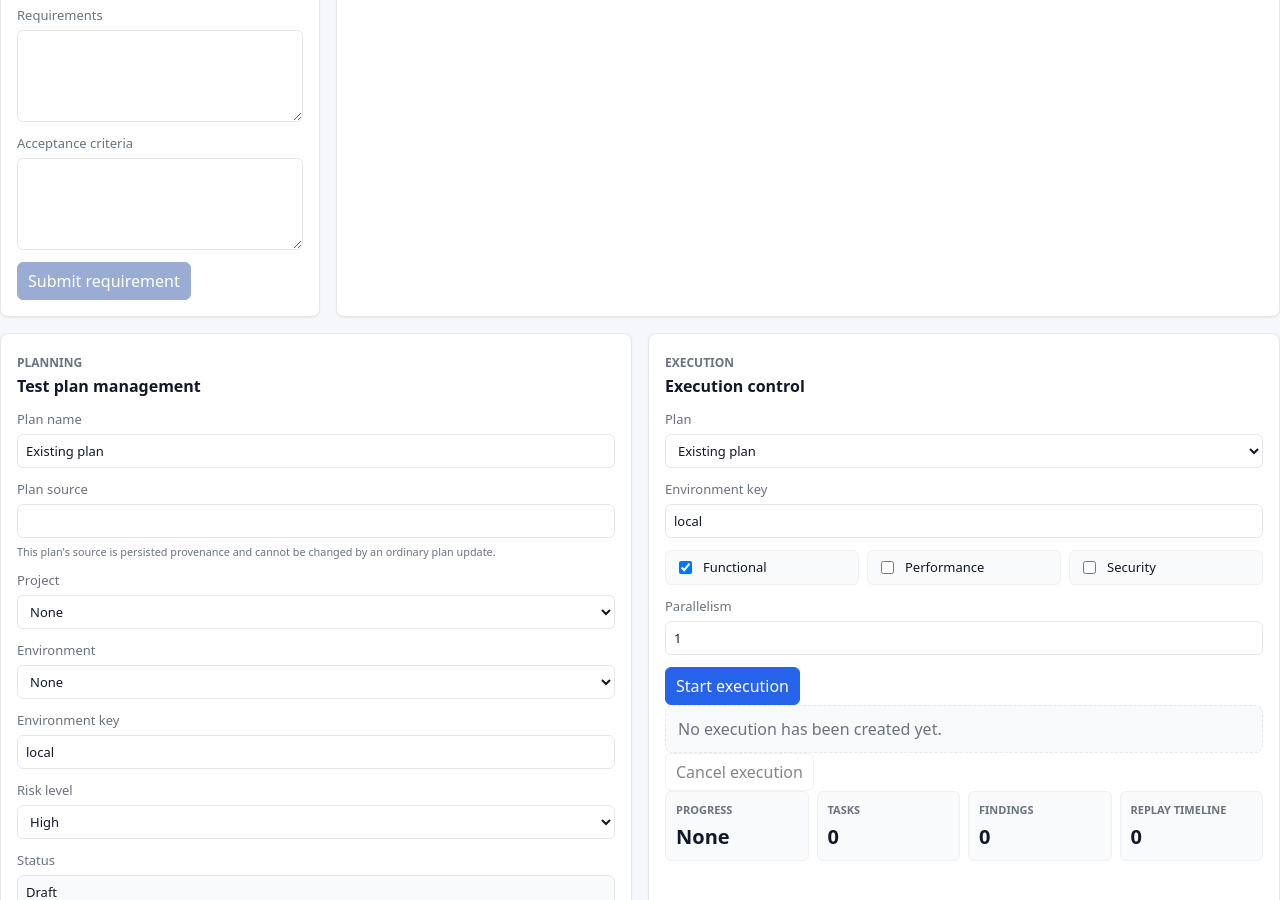
browser plan editing › shows missing plan name beside the create button instead of silently blocking submit
(page scrolled)
Clear the field labelled "Plan name" at (316, 451), box top-left (17, 434), bottom-right (615, 468)
(page scrolled)
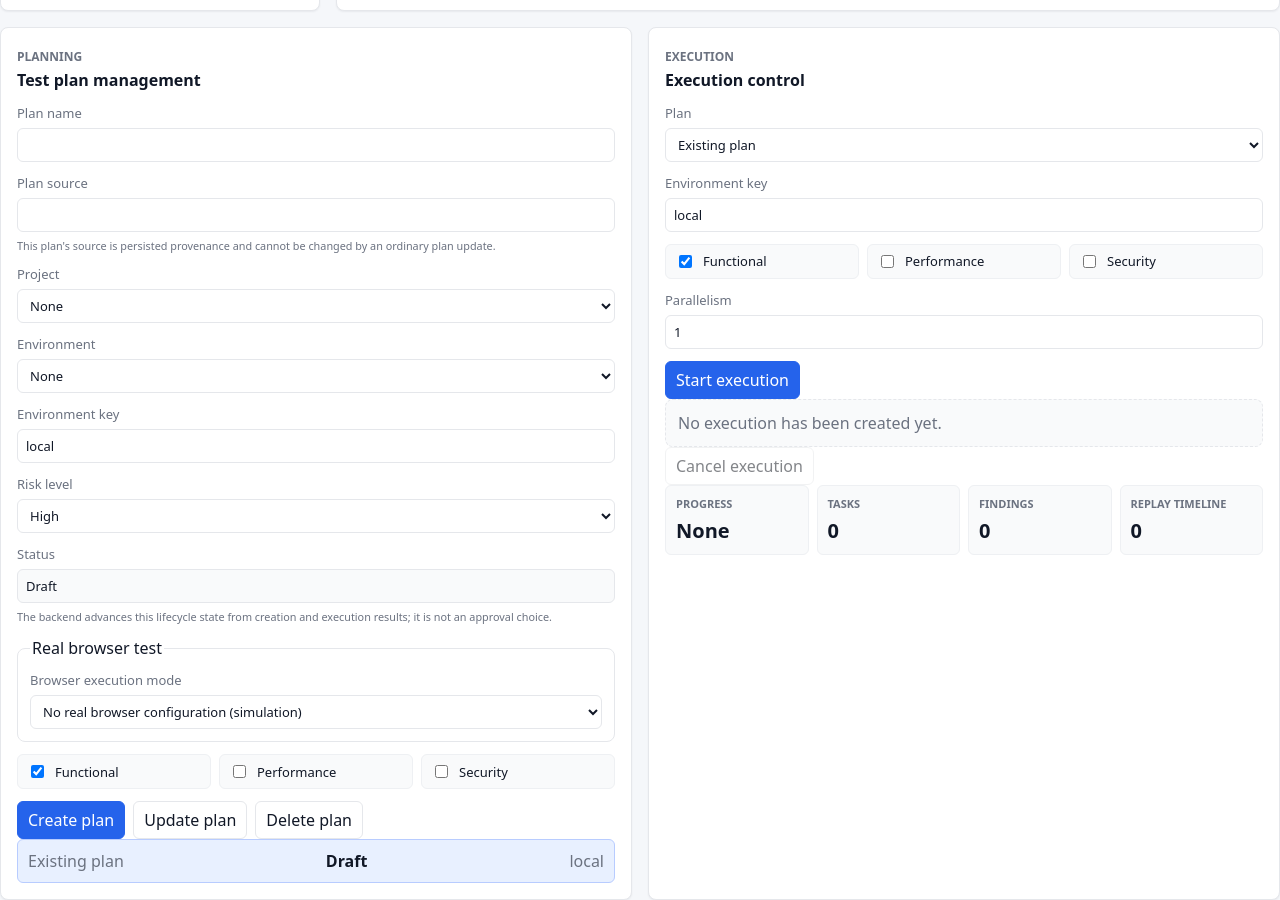
Click the button "Create plan" at (71, 820), box top-left (17, 801), bottom-right (125, 839)
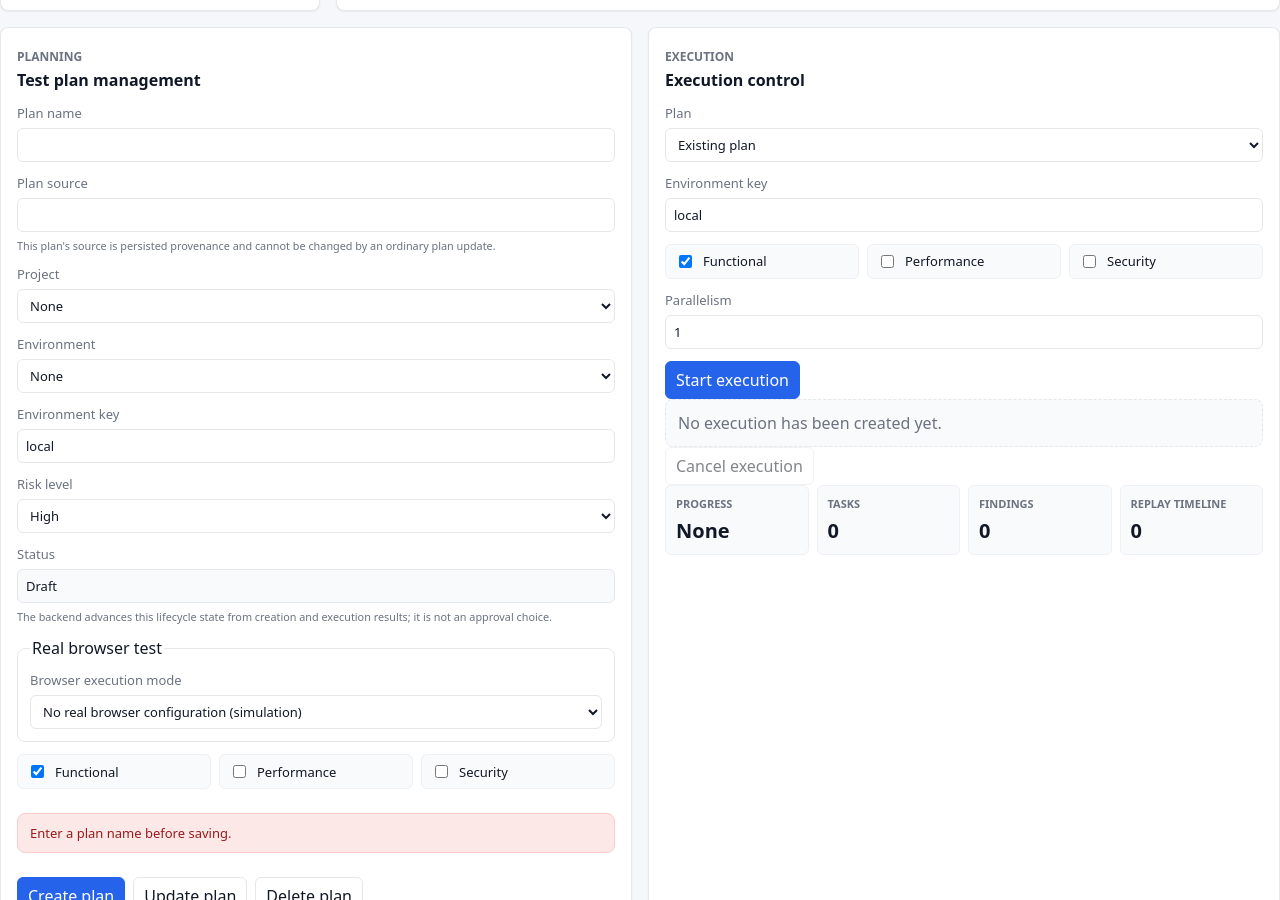
Expected: the message reads "Enter a plan name before saving.", top-left (30, 824), bottom-right (231, 842)
